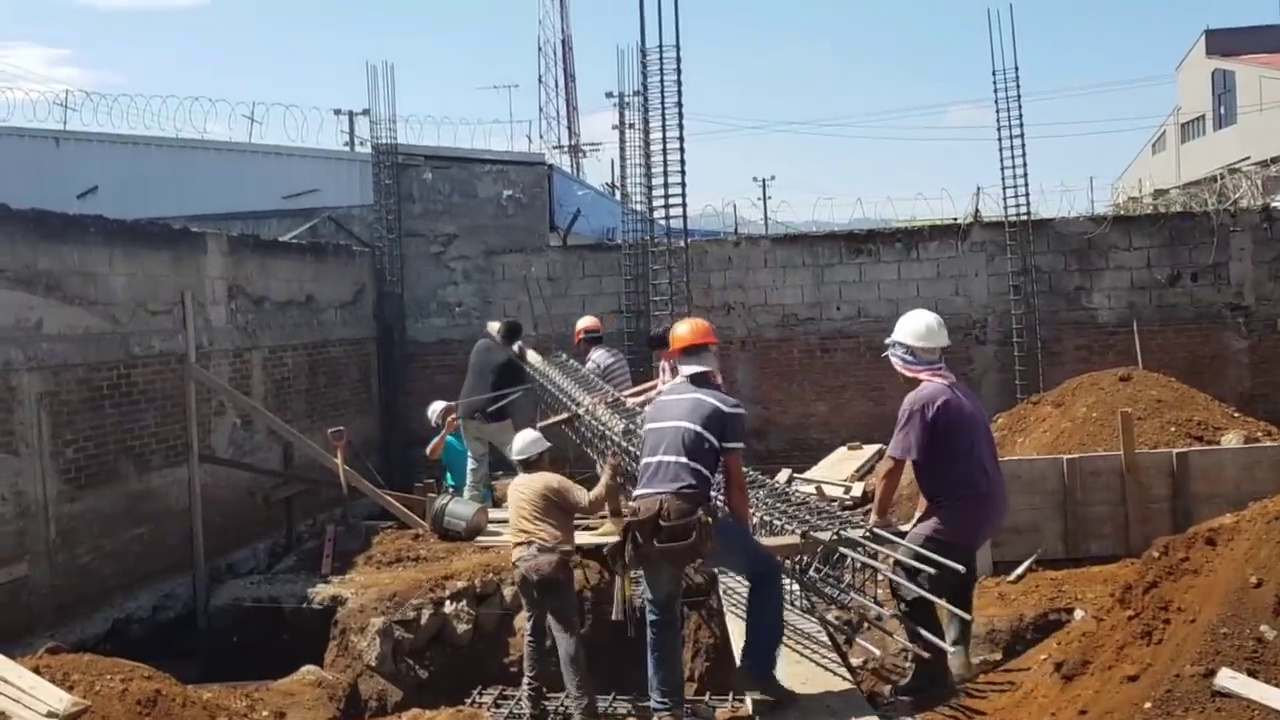helmet: (885, 309, 956, 359), (662, 320, 723, 360), (508, 429, 552, 466), (423, 398, 455, 427), (573, 317, 603, 345)
helmet-off: (495, 320, 525, 347)
helmet-on: (882, 310, 960, 393), (662, 319, 725, 388), (506, 428, 554, 477), (567, 318, 606, 361), (423, 395, 461, 433)
person: (609, 313, 771, 720), (858, 309, 998, 708), (506, 439, 616, 699), (466, 324, 537, 465), (561, 319, 629, 405), (422, 398, 474, 503)
